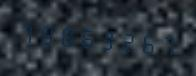eight: (37, 14, 56, 52), (57, 16, 76, 54)
seven: (17, 13, 36, 50), (157, 25, 176, 62)
six: (137, 23, 156, 61), (77, 18, 96, 55)
three: (97, 20, 116, 57)
two: (117, 21, 136, 59)
